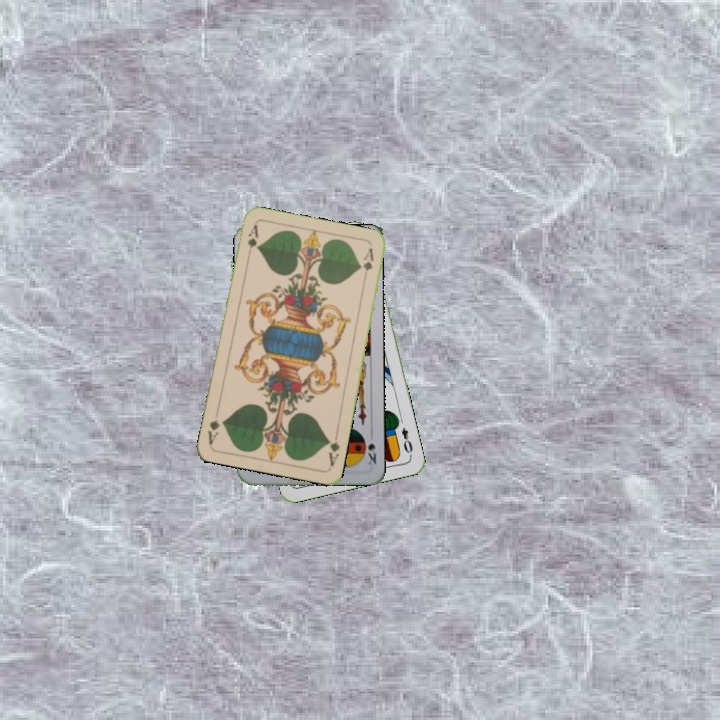EO: (397, 423, 415, 459)
GA: (323, 429, 342, 469), (243, 221, 261, 261)
SK: (363, 428, 379, 468)
